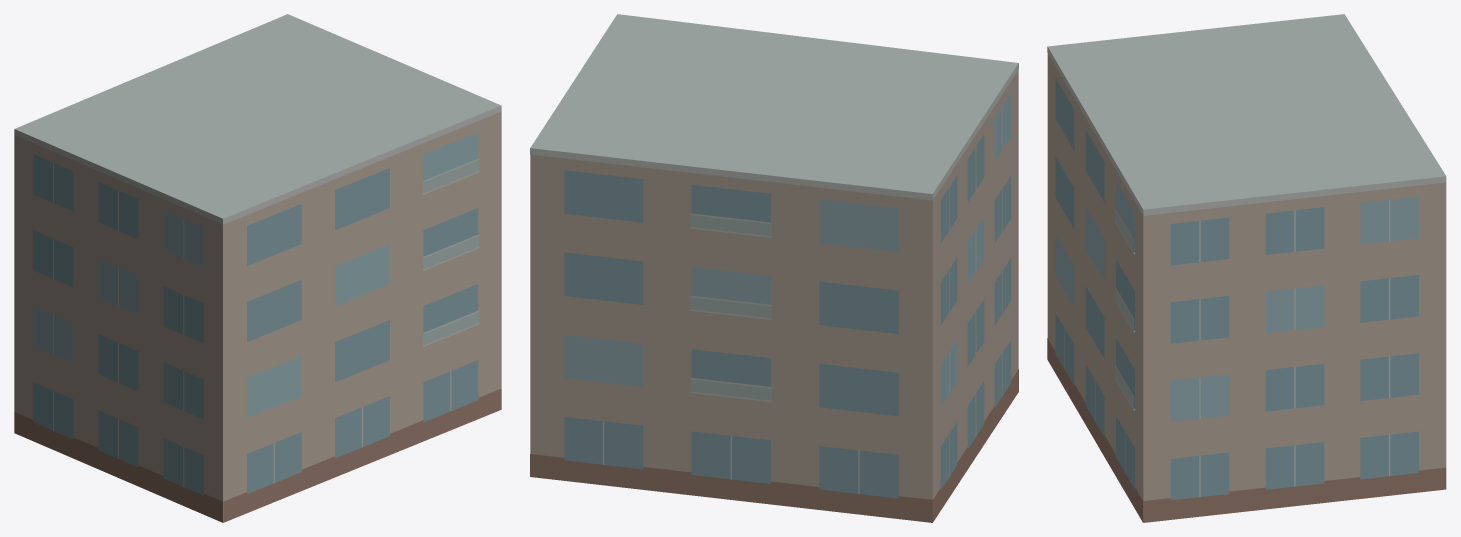
The model's file is survey-upis-32704235.glb.
3 renders of one model, left to right at view 1: azimuth 30°, elevation 25°; view 2: azimuth 150°, elevation 25°; view 3: azimuth 270°, elevation 25°, orthographic. The views are drawn at different scales.
Visible parts, largest first — view 1: survey-upis-32704235.tmp; view 2: survey-upis-32704235.tmp; view 3: survey-upis-32704235.tmp.
Boxes of the visible parts, x1=… form: survey-upis-32704235.tmp: x1=14, y1=14, x2=501, y2=522; survey-upis-32704235.tmp: x1=530, y1=14, x2=1018, y2=522; survey-upis-32704235.tmp: x1=1047, y1=14, x2=1446, y2=522.
Size of the model in its own units: 16.72 by 12.47 by 14.4.
